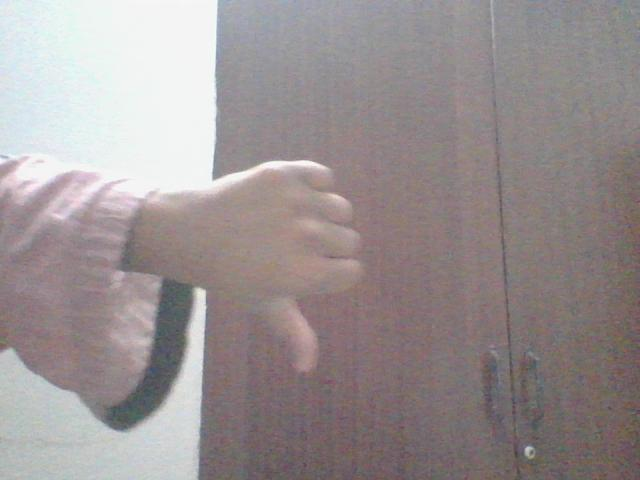thumbs-down: (218, 160, 369, 380)
